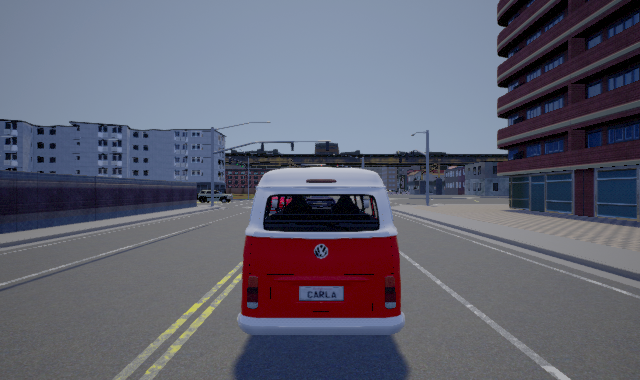vehicle: (237, 167, 405, 335), (197, 188, 234, 205)
